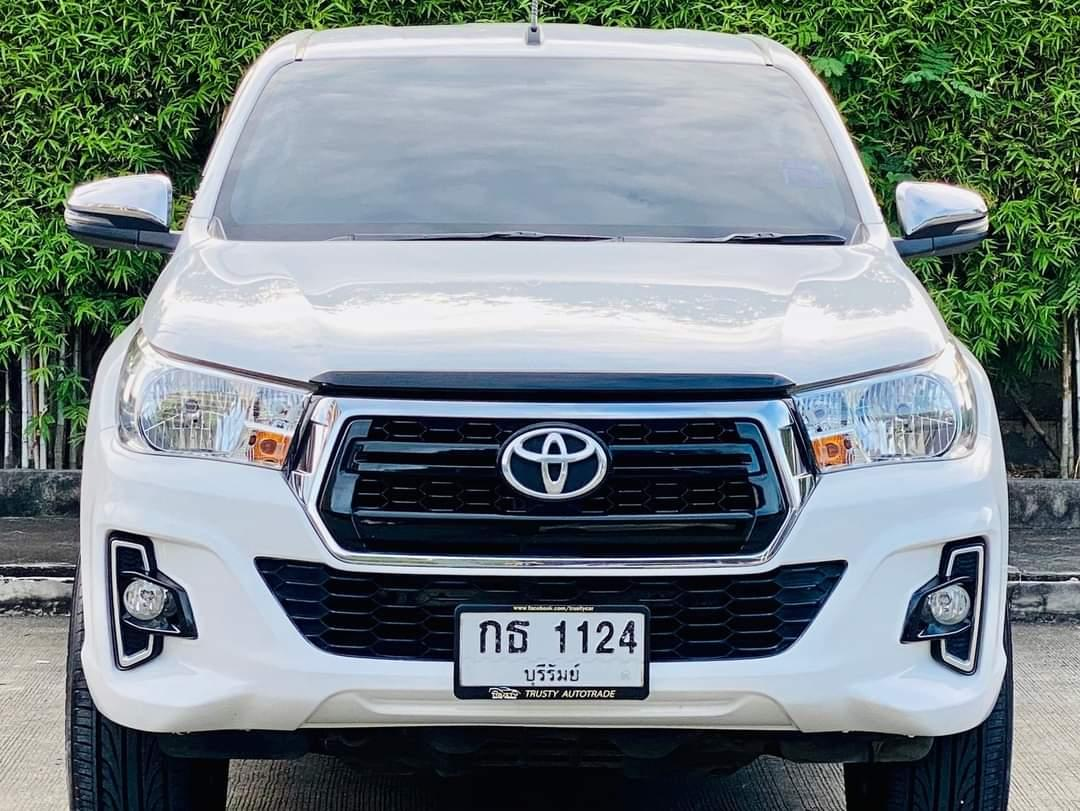license-plate: (453, 596, 651, 706)
